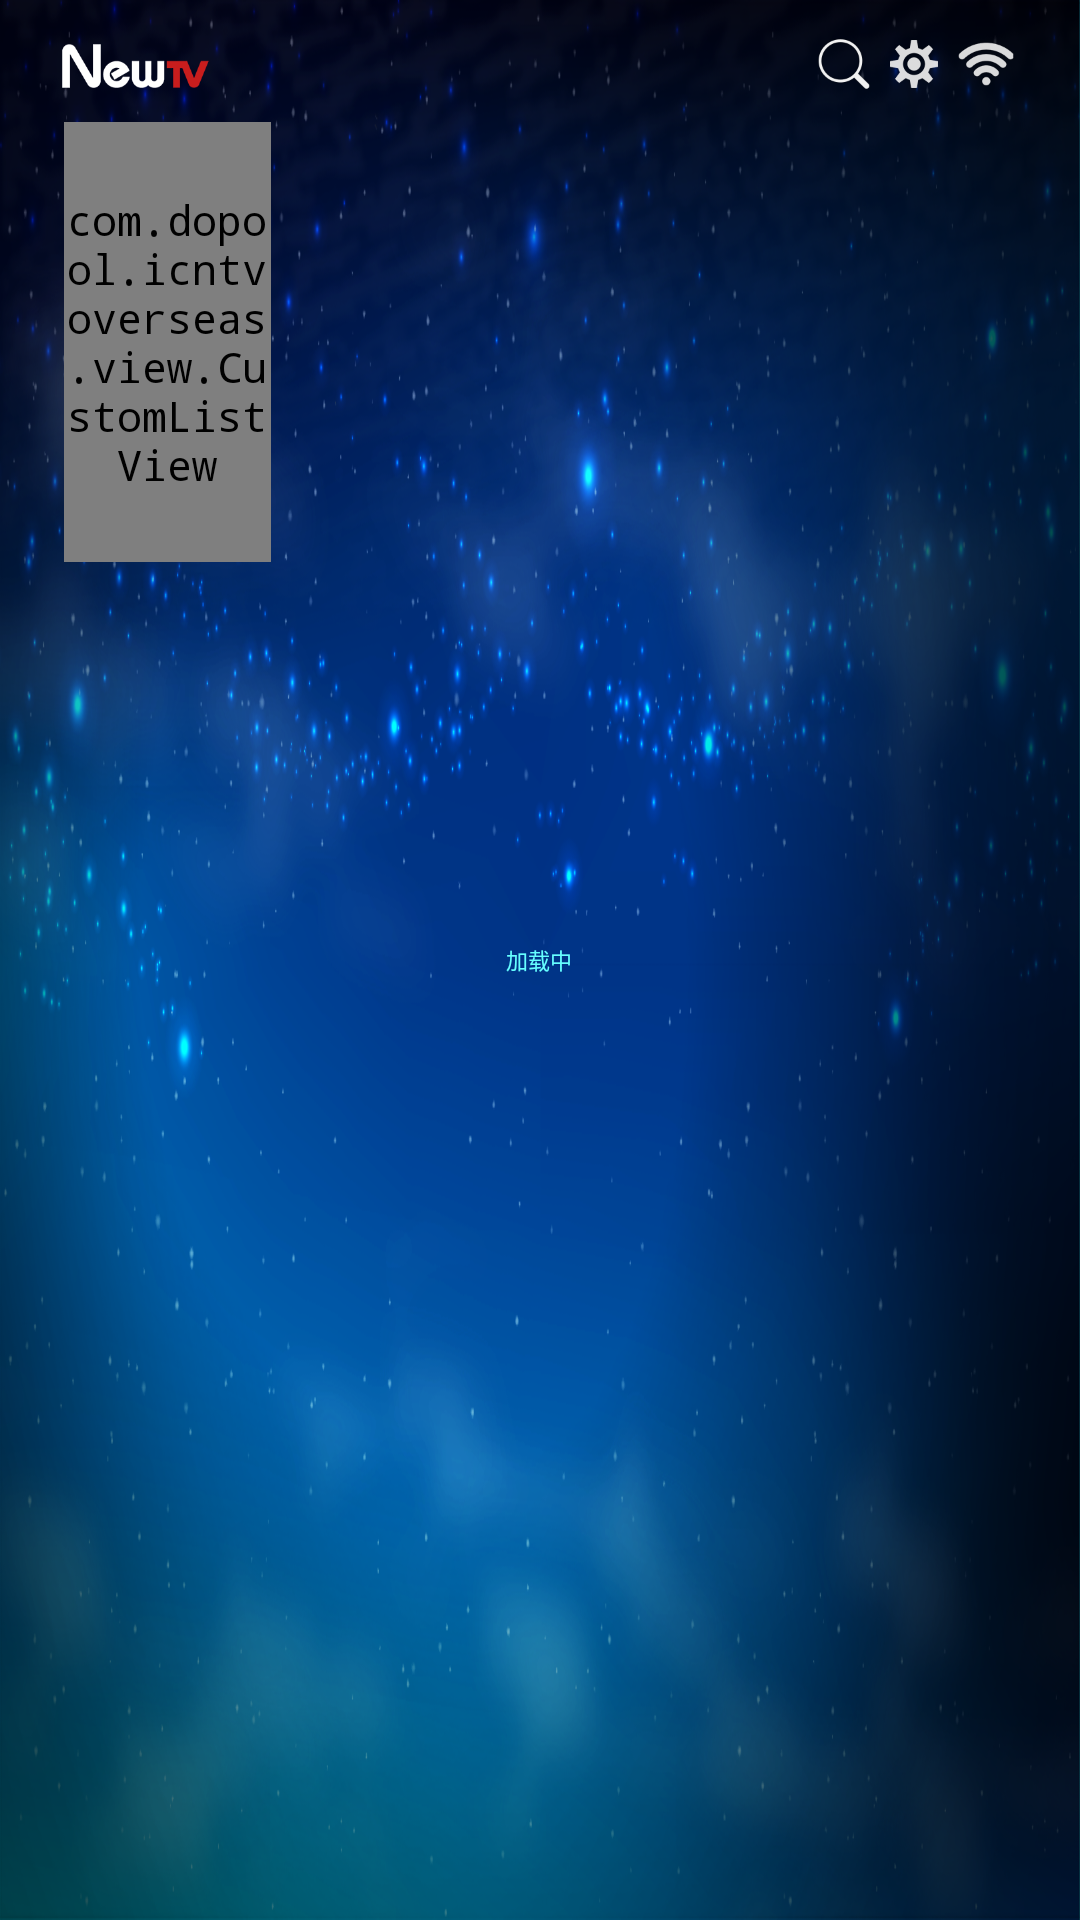

Icons on this 1080 x 1920 Android screen, each with the point to tap as (x,y):
search: (844,64)
setting: (914,66)
wifi: (986,66)
